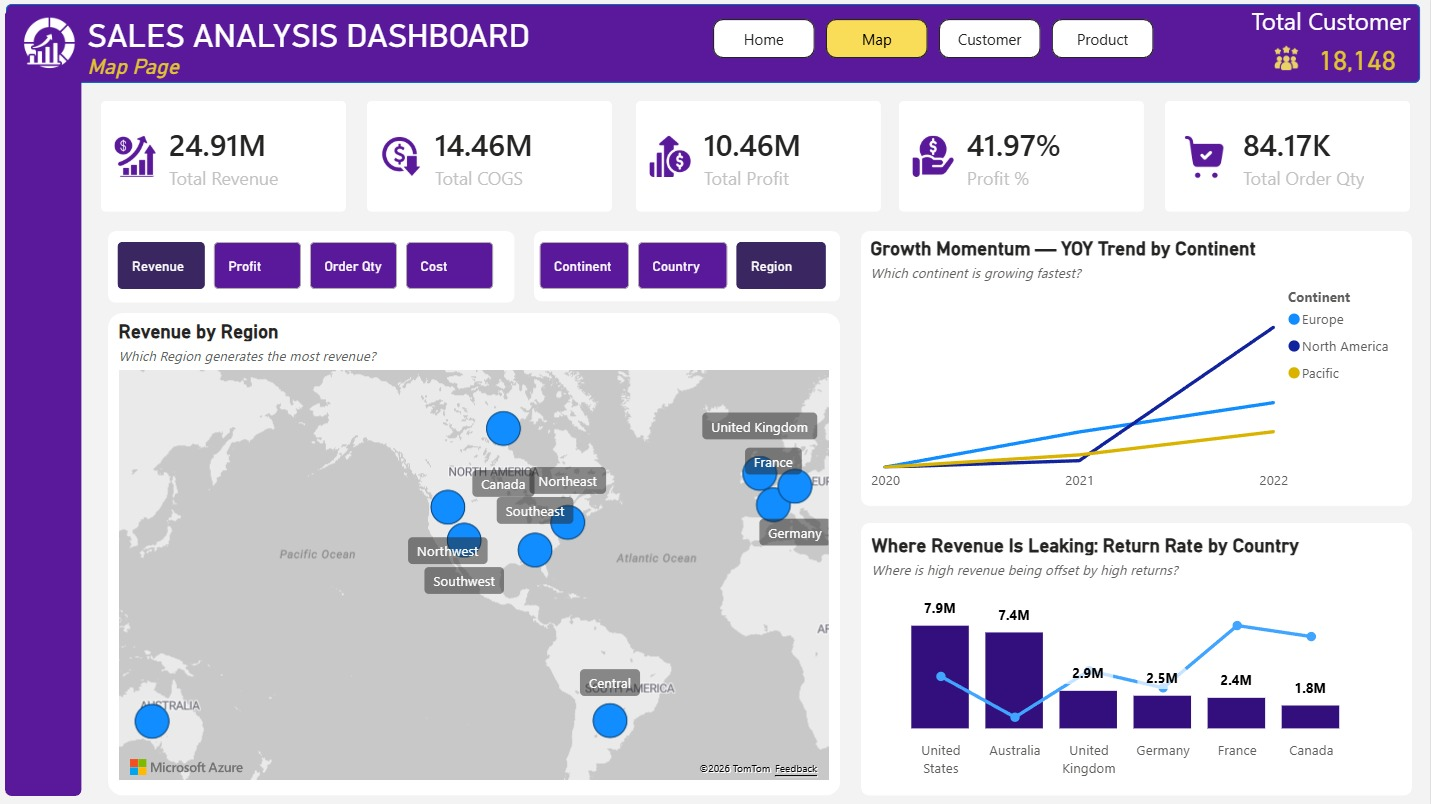

Layout of this report page (visuals, bound fields, positions):
{"tool":"powerbi","page":{"name":"Map","canvas":[1280,720],"ordinal":1},"visuals":[{"type":"textbox","box":[1115.7,0,155.2,45.4],"z":0,"group":"g1"},{"type":"shape","box":[6,4,1264.9,70.6],"z":0},{"type":"shape","box":[5.8,9.3,68.5,703.9],"z":1000},{"type":"card","fields":{"Values":["All Calculation.No of Customer"]},"box":[1167.1,36.3,96.8,34.3],"z":1000,"group":"g1"},{"type":"image","box":[16.1,15.1,58.5,48.4],"z":2000},{"type":"image","box":[1135.9,40.3,31.2,25.2],"z":2000,"group":"g1"},{"type":"textbox","box":[74.6,11.1,545.3,75.6],"z":3000},{"type":"group","id":"g1","title":"Group 1","box":[1115.7,0,155.2,70.6],"z":4000},{"type":"cardVisual","fields":{"Data":["All Calculation.Total Revenue"]},"box":[74.6,74.6,254,133],"z":5000},{"type":"cardVisual","fields":{"Data":["All Calculation.Total COGS"]},"box":[312.4,74.6,254,133],"z":6000},{"type":"cardVisual","fields":{"Data":["All Calculation.Total Profit"]},"box":[552.3,74.6,254,133],"z":7000},{"type":"cardVisual","fields":{"Data":["All Calculation.Profit %"]},"box":[788.2,74.6,254,133],"z":8000},{"type":"cardVisual","fields":{"Data":["All Calculation.Total Order Qty"]},"box":[1026,74.6,254,133],"z":9000},{"type":"shape","box":[97.8,280.9,655,431.7],"z":10000},{"type":"pageNavigator","box":[639,18.1,394.6,35.5],"z":11000},{"type":"azureMap","fields":{"Category":["Territory Lookup.Country"],"Y":["All Calculation.Total COGS"]},"box":[102,287.3,644.6,415.9],"z":12000},{"type":"shape","box":[771,207.6,492.9,245.9],"z":13000},{"type":"shape","box":[771,468.7,492.9,243.9],"z":14000},{"type":"shape","box":[97.8,207.2,363.7,64.5],"z":15000},{"type":"advancedSlicerVisual","fields":{"Values":["KPI Parameter.KPI Parameter"]},"box":[101.3,217.6,348.7,47.4],"z":16000},{"type":"shape","box":[478.8,207.2,274,63.3],"z":17000},{"type":"advancedSlicerVisual","fields":{"Values":["Location Parameter.Location Parameter"]},"box":[478.8,217.6,268.1,47.4],"z":18000},{"type":"lineChart","title":"Growth Momentum — YOY Trend by Continent","fields":{"Category":["Calendar.Date Hierarchy.Year"],"Series":["Territory Lookup.Continent"],"Y":["@DAX_2.YOY Sales Growth % 2"]},"box":[775,212.8,483.3,235.9],"z":19000},{"type":"lineClusteredColumnComboChart","title":"Where Revenue Is Leaking: Return Rate by Country","fields":{"Category":["Territory Lookup.Country"],"Y":["All Calculation.Total Revenue"],"Y2":["All Calculation.Return Rate"]},"box":[775.3,478.2,483.3,224.9],"z":20000}]}

Visuals, with their boxes in screenshot pixels (x1, y1, x2, y2), scaled from the page's 1280x720 canvas onto the 1431x804 screenshot:
textbox: x1=1247, y1=0, x2=1421, y2=51
shape: x1=7, y1=4, x2=1421, y2=83
shape: x1=6, y1=10, x2=83, y2=796
card - All Calculation.No of Customer: x1=1305, y1=41, x2=1413, y2=79
image: x1=18, y1=17, x2=83, y2=71
image: x1=1270, y1=45, x2=1305, y2=73
textbox: x1=83, y1=12, x2=693, y2=97
"Group 1" group: x1=1247, y1=0, x2=1421, y2=79
cardVisual - All Calculation.Total Revenue: x1=83, y1=83, x2=367, y2=232
cardVisual - All Calculation.Total COGS: x1=349, y1=83, x2=633, y2=232
cardVisual - All Calculation.Total Profit: x1=617, y1=83, x2=901, y2=232
cardVisual - All Calculation.Profit %: x1=881, y1=83, x2=1165, y2=232
cardVisual - All Calculation.Total Order Qty: x1=1147, y1=83, x2=1430, y2=232
shape: x1=109, y1=314, x2=842, y2=796
pageNavigator: x1=714, y1=20, x2=1156, y2=60
azureMap - Territory Lookup.Country x All Calculation.Total COGS: x1=114, y1=321, x2=835, y2=785
shape: x1=862, y1=232, x2=1413, y2=506
shape: x1=862, y1=523, x2=1413, y2=796
shape: x1=109, y1=231, x2=516, y2=303
advancedSlicerVisual - KPI Parameter.KPI Parameter: x1=113, y1=243, x2=503, y2=296
shape: x1=535, y1=231, x2=842, y2=302
advancedSlicerVisual - Location Parameter.Location Parameter: x1=535, y1=243, x2=835, y2=296
"Growth Momentum — YOY Trend by Continent" lineChart: x1=866, y1=238, x2=1407, y2=501
"Where Revenue Is Leaking: Return Rate by Country" lineClusteredColumnComboChart: x1=867, y1=534, x2=1407, y2=785
